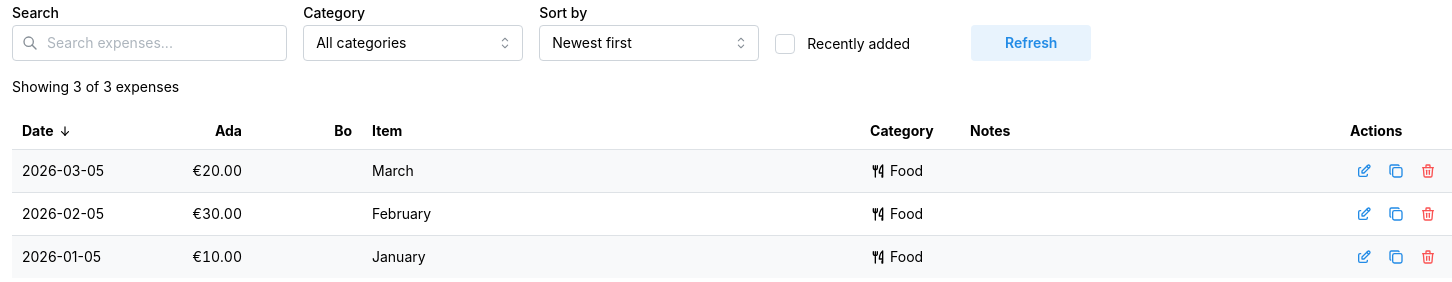
Scenario: ordering › keeps the header and the sort control saying the same thing
Click the button "Date": x=47, y=131 [22, 120, 72, 142]
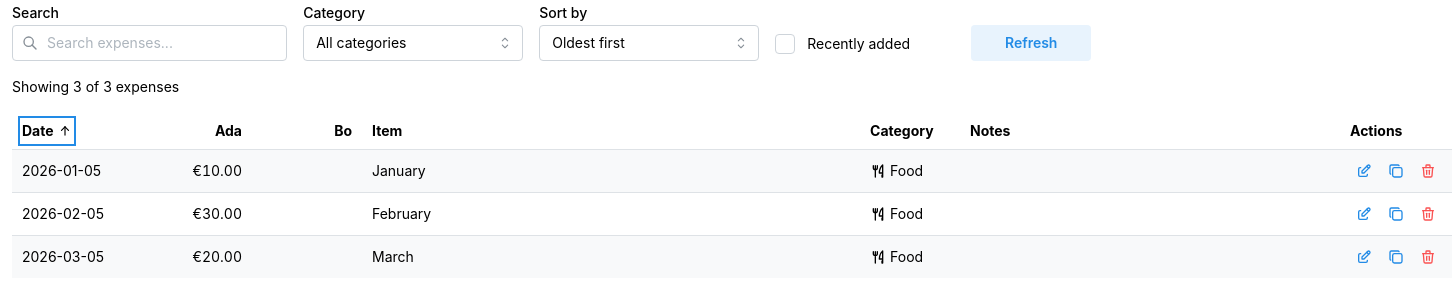
Result: the field labelled "Sort by" holds "Oldest first" at [539, 25, 759, 61]
